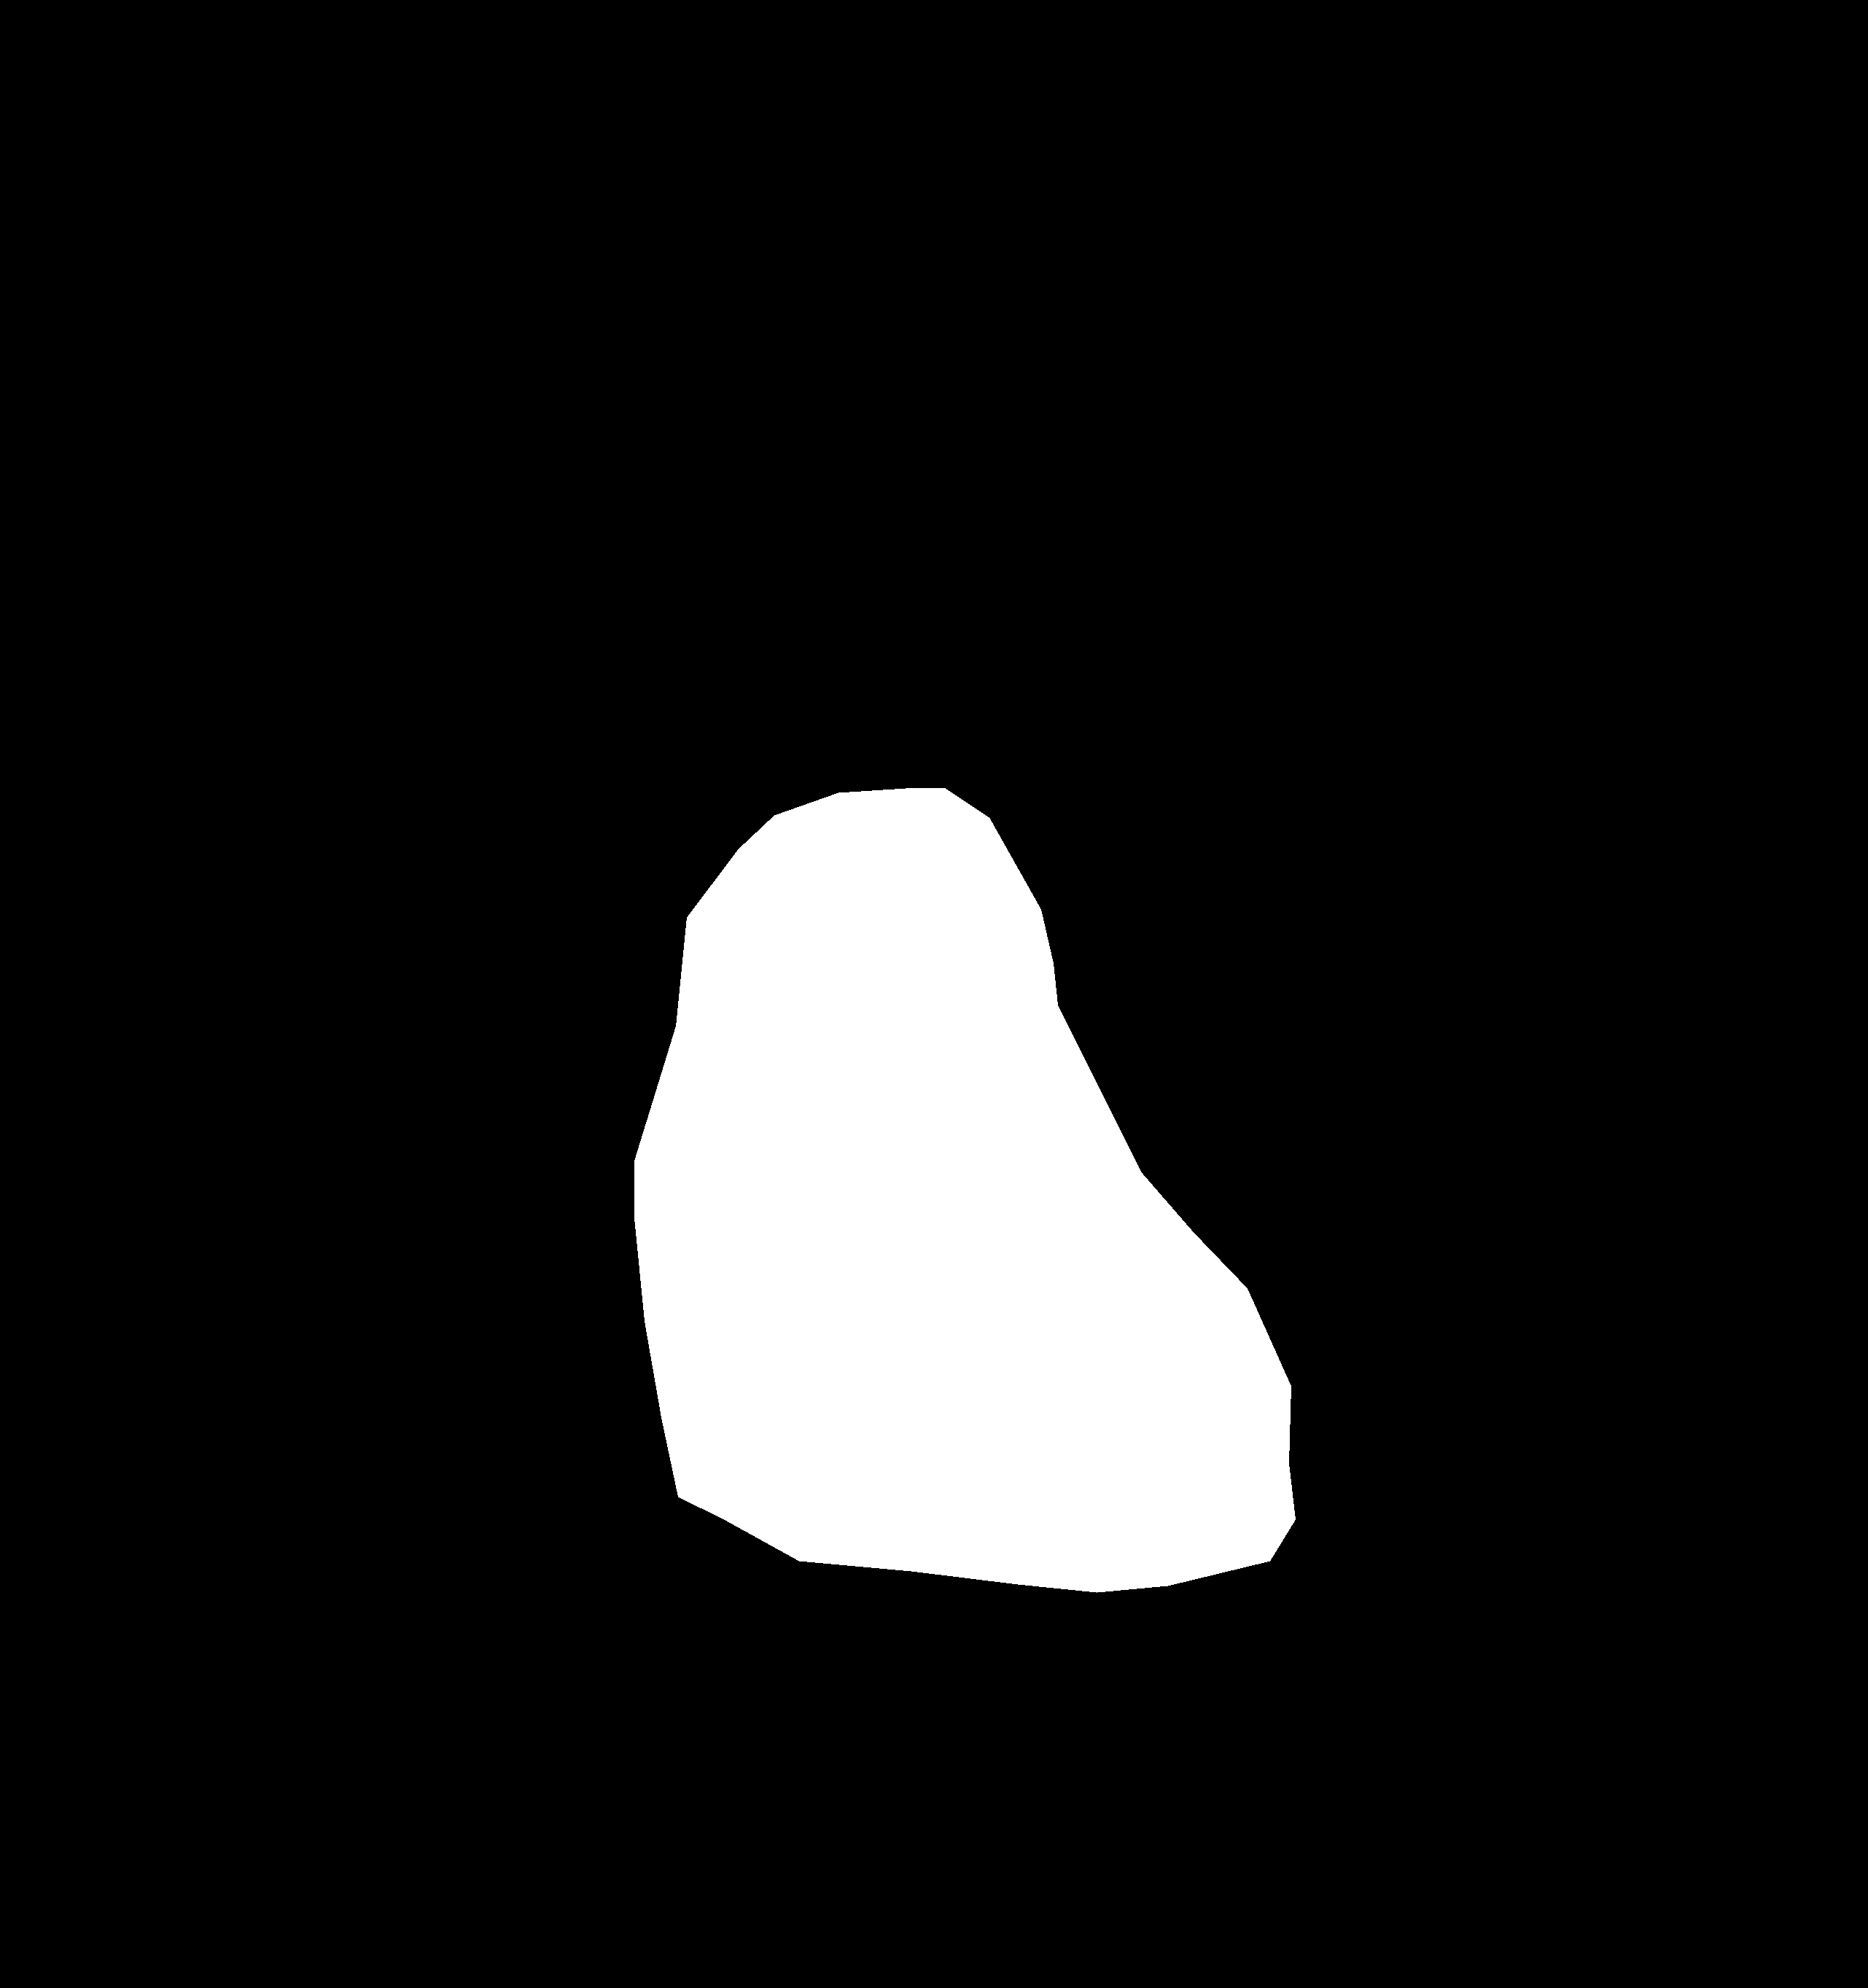heart: (634, 788, 1296, 1591)
left_lung: (169, 177, 741, 1730)
right_lung: (892, 149, 1561, 1763)
